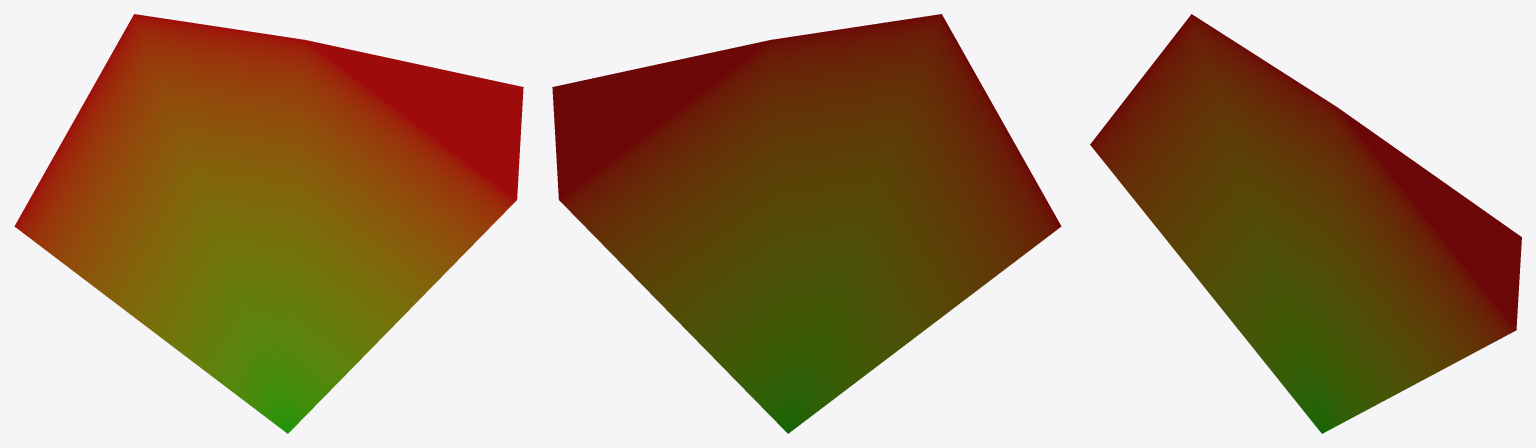
Rendered from Var6_LOD3.fbx.
3 views of the same model, side by side, from view 1: azimuth 30°, elevation 25°; view 2: azimuth 150°, elevation 25°; view 3: azimuth 330°, elevation 25° (orthographic). The views are drawn at different scales.
Parts seen in each view (by area): view 1: _cf75_Var6_LOD3; view 2: _cf75_Var6_LOD3; view 3: _cf75_Var6_LOD3.
Part boxes in pixels (x1,y1,x2,y2): _cf75_Var6_LOD3: (14,14,523,433); _cf75_Var6_LOD3: (552,14,1061,433); _cf75_Var6_LOD3: (1090,14,1521,433).
Bounding box in the file's own units: 22.13 × 19 × 9.54e-07.
